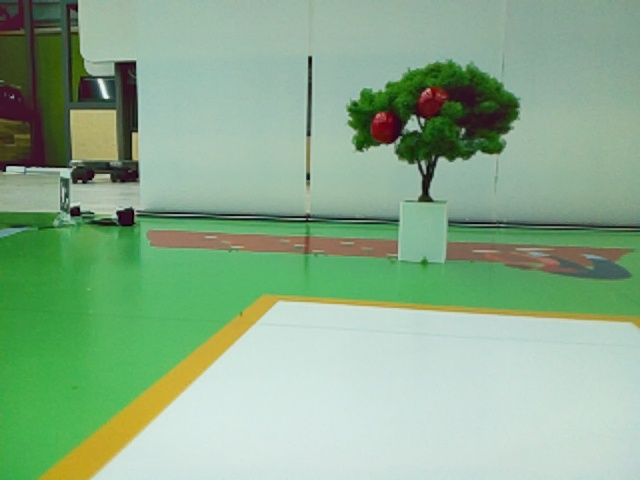apple: (418, 88, 448, 116), (371, 112, 394, 142)
